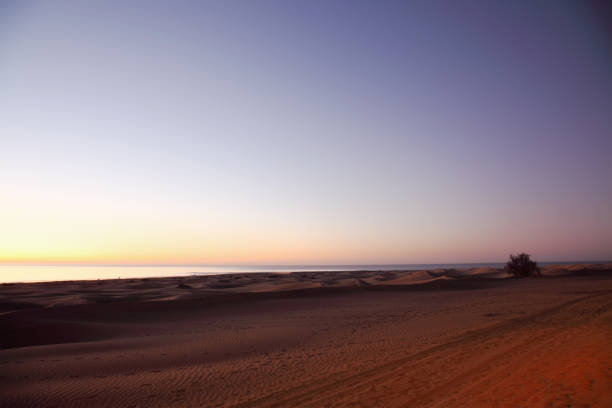vehicle_track: (238, 291, 611, 406)
